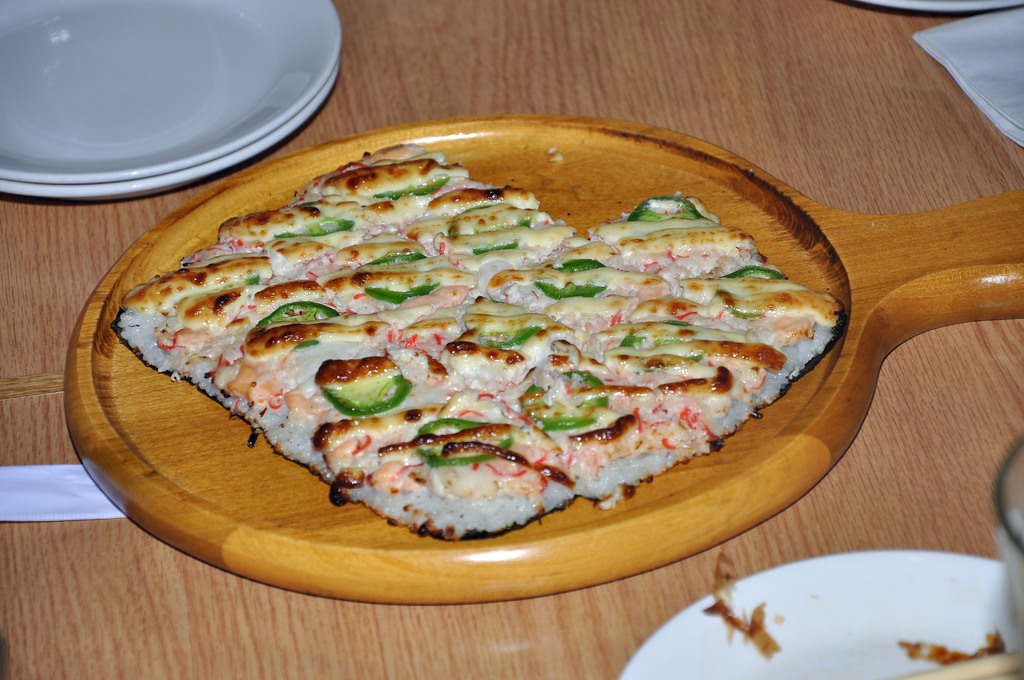Pizza: (106, 147, 857, 528)
